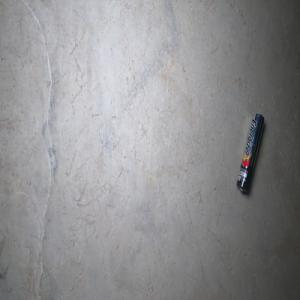Battery: (236, 112, 264, 196)
